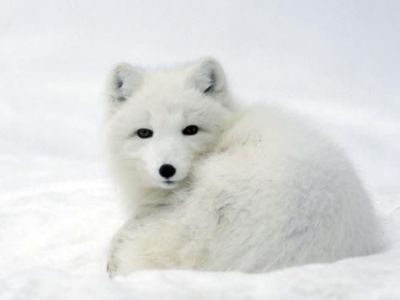fox: (94, 54, 384, 273)
